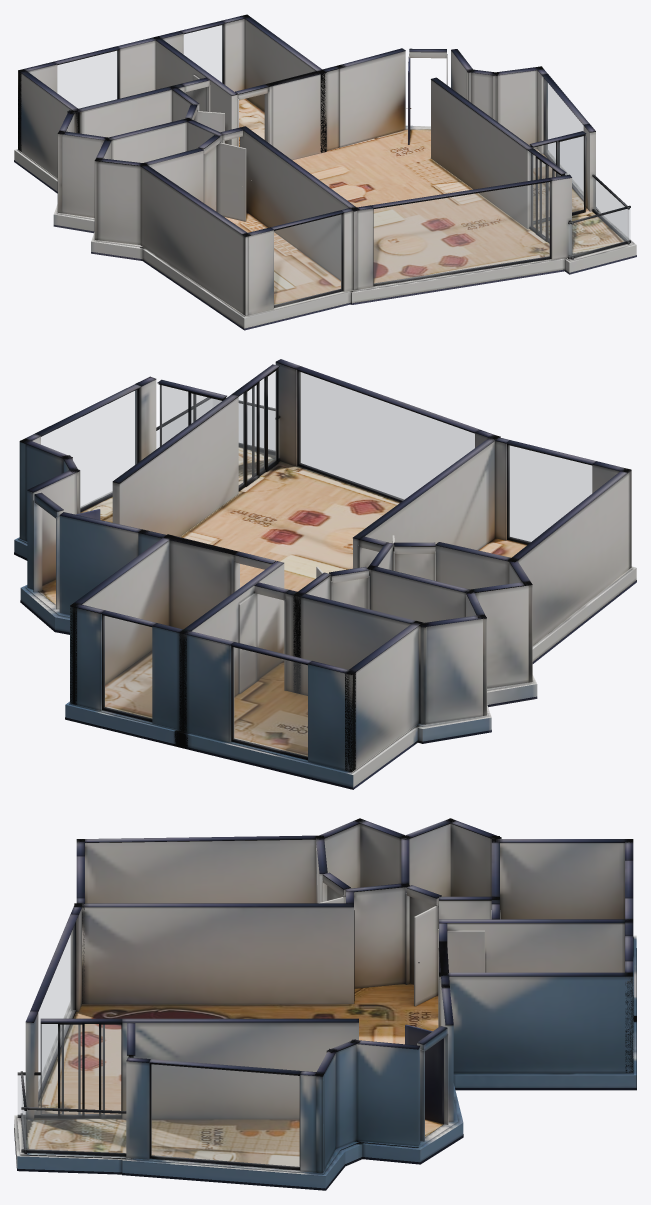
The picture shows the model from 3 angles, top to bottom: view 1: azimuth 30°, elevation 25°; view 2: azimuth 150°, elevation 25°; view 3: azimuth 270°, elevation 25°; orthographic projection. The views are drawn at different scales.
Parts seen in each view (by area): view 1: plan, glass3_m, glass2_m, glass0_m, glass6_m, railg1_m, glass5_m, glass1_m, railg0_m, glass4_m; view 2: plan, glass3_m, glass0_m, glass6_m, glass2_m, glass1_m, glass4_m, glass5_m, railg1_m, railg0_m; view 3: plan, glass6_m, glass4_m, railg0_m, glass3_m.
Part boxes in pixels (x1,y1,x2,y2): plan: (14, 14, 636, 330); glass3_m: (374, 182, 549, 283); glass2_m: (274, 215, 341, 305); glass0_m: (57, 51, 117, 108); glass6_m: (545, 80, 583, 196); railg1_m: (569, 208, 630, 256); glass5_m: (534, 136, 583, 212); glass1_m: (184, 25, 222, 82); railg0_m: (593, 177, 628, 241); glass4_m: (530, 153, 560, 239); plan: (14, 359, 636, 789); glass3_m: (299, 372, 474, 499); glass0_m: (233, 647, 307, 756); glass6_m: (41, 390, 136, 508); glass2_m: (509, 445, 591, 541); glass1_m: (104, 616, 151, 718); glass4_m: (239, 371, 275, 487); glass5_m: (159, 385, 221, 446); railg1_m: (213, 399, 274, 450); railg0_m: (156, 399, 212, 448); plan: (14, 818, 636, 1190); glass6_m: (151, 1064, 299, 1167); glass4_m: (41, 1024, 120, 1114); railg0_m: (22, 1110, 125, 1153); glass3_m: (38, 926, 74, 1092).
Size of the model in its own units: 13.1 by 2.62 by 13.14.
Materials: 2 (1 with a texture image).
